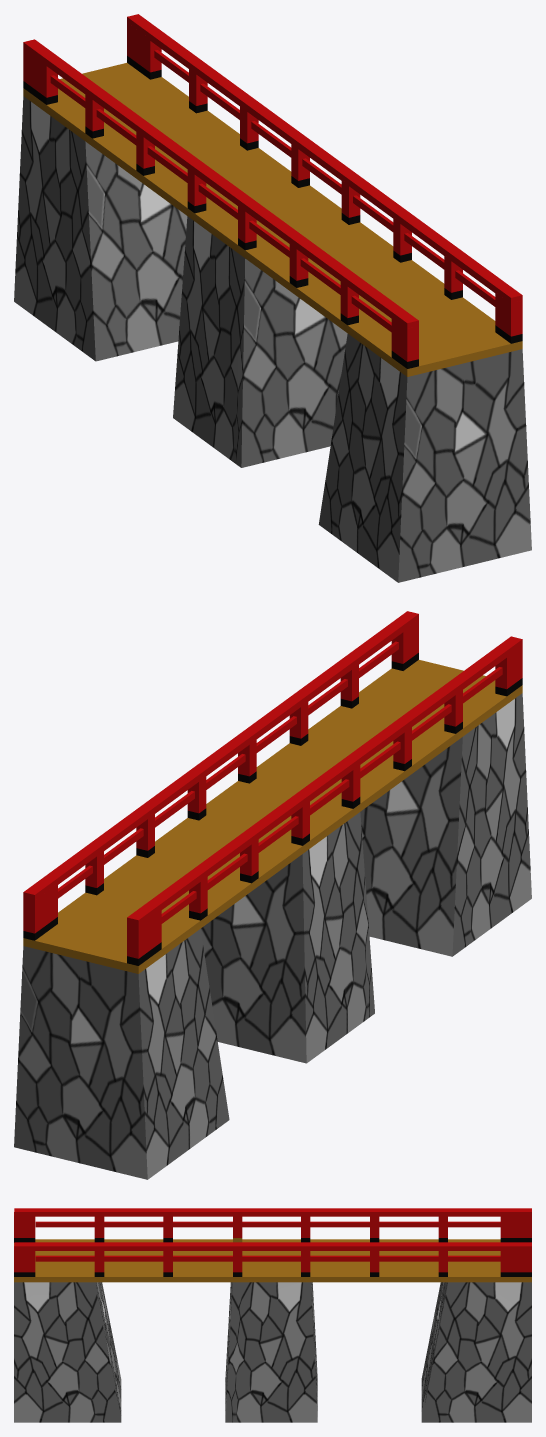
Rendered from yuukaku_bridge.fbx.
3 views of the same model, one above another, from view 1: azimuth 30°, elevation 25°; view 2: azimuth 150°, elevation 25°; view 3: azimuth 270°, elevation 25° (orthographic). The views are drawn at different scales.
Parts seen in each view (by area): view 1: pasted__pCube6; view 2: pasted__pCube6; view 3: pasted__pCube6.
Part boxes in pixels (x1,y1,x2,y2): pasted__pCube6: (14, 14, 531, 582); pasted__pCube6: (14, 611, 531, 1179); pasted__pCube6: (14, 1208, 531, 1422).
Bounding box in the file's own units: 60.52 × 111 × 301.
